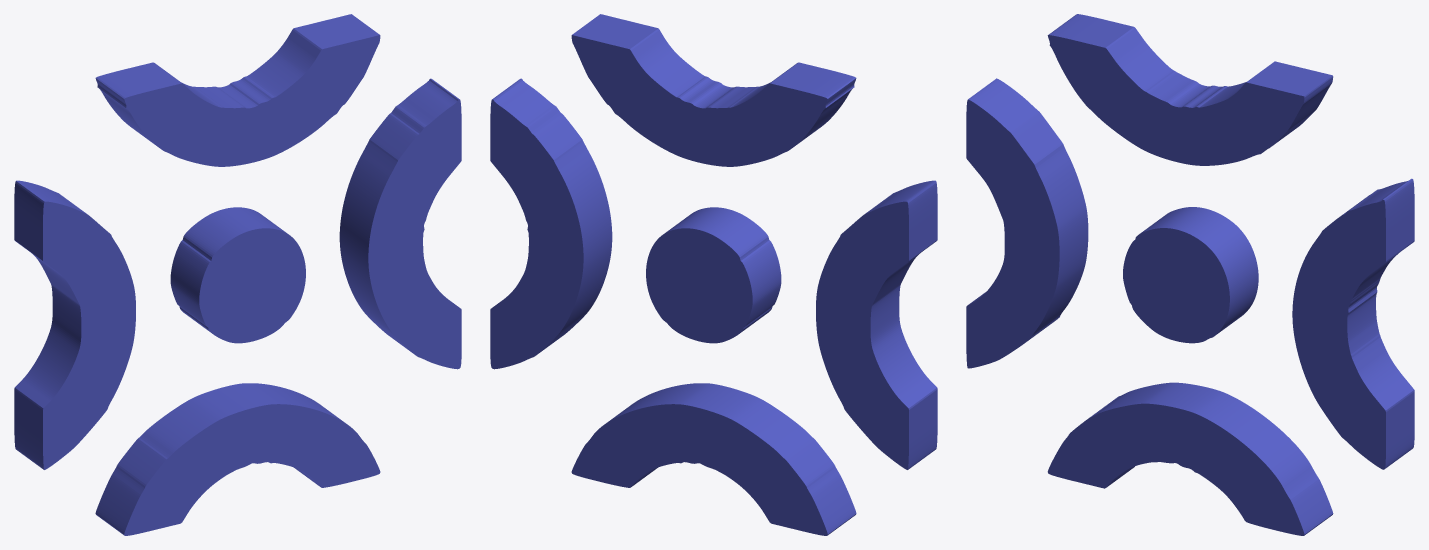
The model's file is uge2.glb.
3 views of the same model, side by side, from view 1: azimuth 30°, elevation 25°; view 2: azimuth 150°, elevation 25°; view 3: azimuth 330°, elevation 25° (orthographic).
Visible parts, largest first — view 1: imagetostl_mesh; view 2: imagetostl_mesh; view 3: imagetostl_mesh.
Part boxes in pixels (x1,y1,x2,y2): imagetostl_mesh: [14, 14, 461, 535]; imagetostl_mesh: [490, 14, 937, 535]; imagetostl_mesh: [966, 14, 1414, 535].
Bounding box in the file's own units: 0.5875 × 0.5899 × 0.0697.
